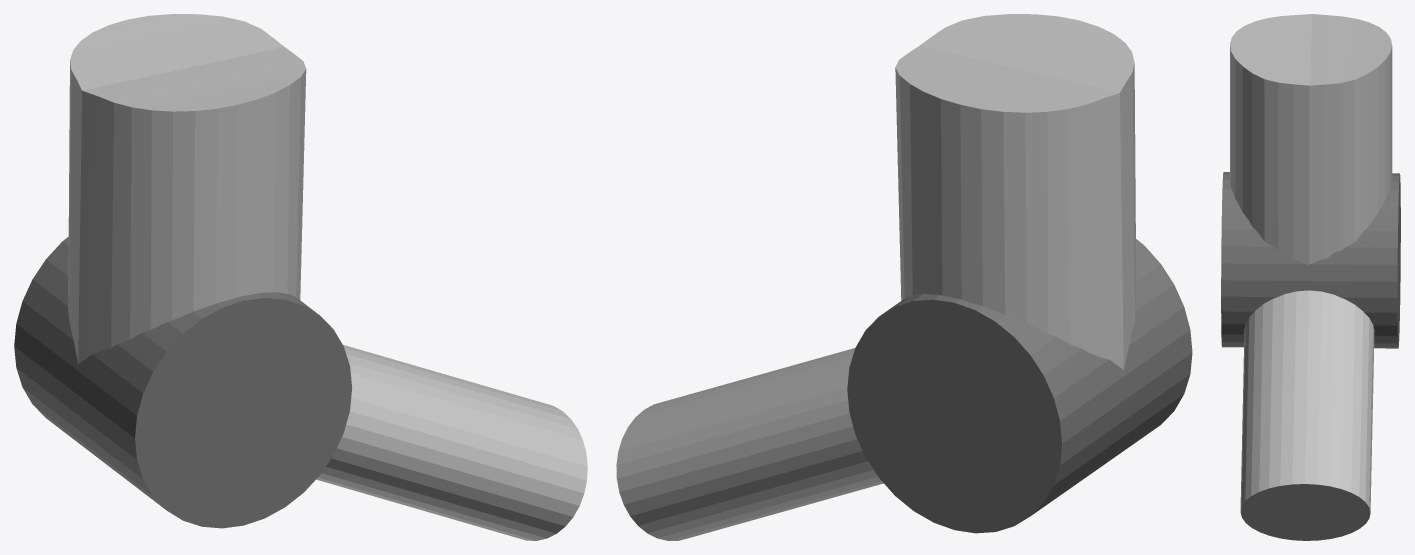
The model's file is Pata_1.fbx.
3 views of the same model, side by side, from view 1: azimuth 30°, elevation 25°; view 2: azimuth 150°, elevation 25°; view 3: azimuth 270°, elevation 25° (orthographic). The views are drawn at different scales.
Parts seen in each view (by area): view 1: Pata_1; view 2: Pata_1; view 3: Pata_1.
Boxes of the visible parts, x1,y1,x2,y2 form: Pata_1: [14, 14, 587, 540]; Pata_1: [616, 14, 1192, 540]; Pata_1: [1221, 14, 1400, 540].
Bounding box in the file's own units: 585 × 629 × 266.
